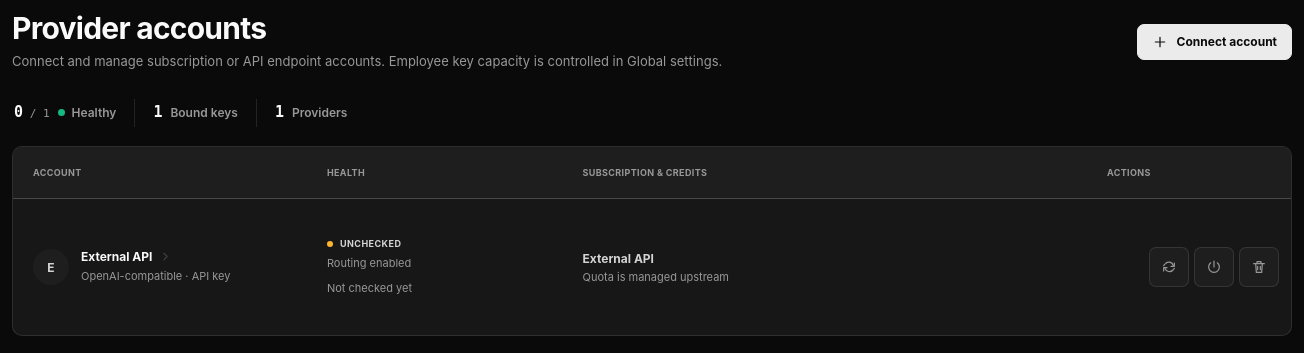
Test: Subpool console › checks an OpenAI-compatible account without refreshing static credentials
The width and height of the screenshot is (1304, 353).
Click the button named "Check health for External API": (1169, 267) [1149, 247, 1189, 287]
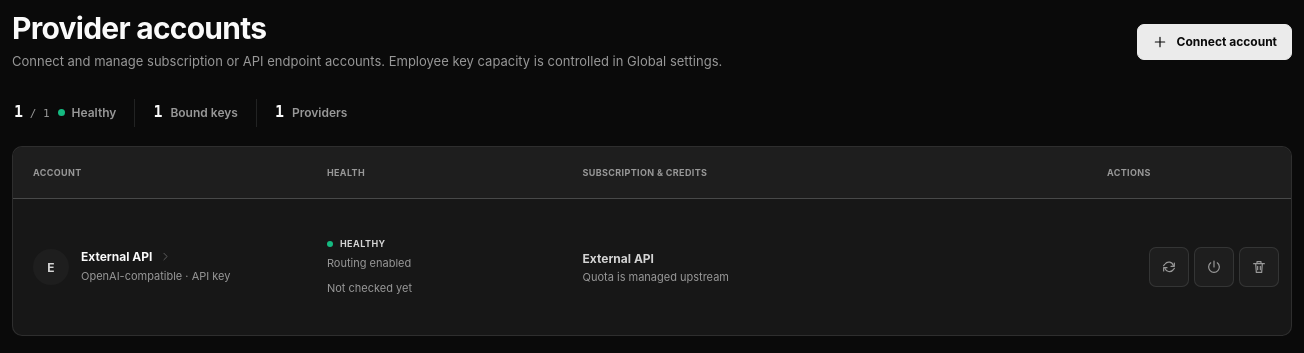
Expected: the text "healthy" is shown, [327, 238, 386, 249]
